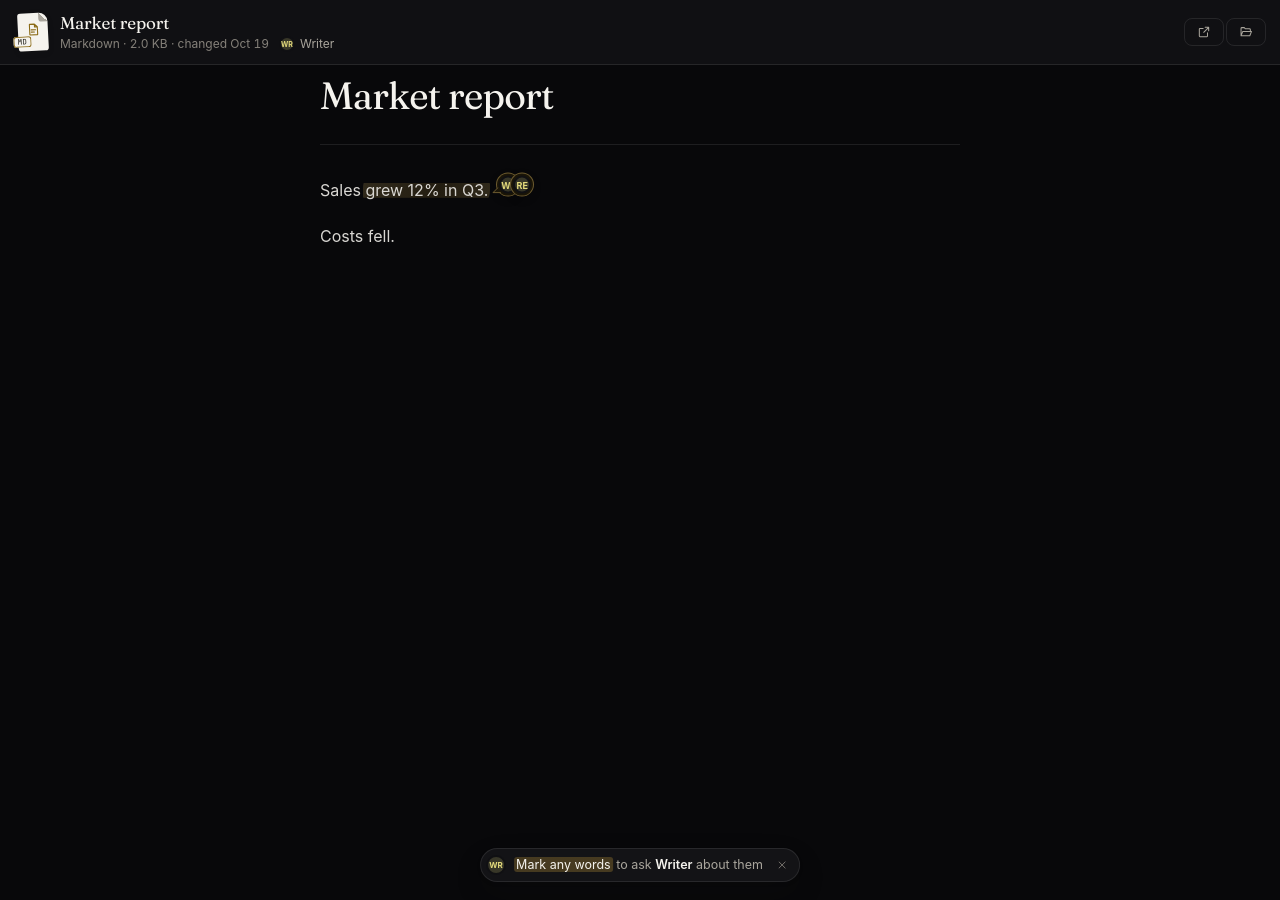
Test: reading a file an agent made › shows a part asked about with the newer part that overlaps it, its answer beside them
Click the button with aria-label "Writer's answer about “Sales grew”". click: (508, 185)
box: [497,174,519,196]
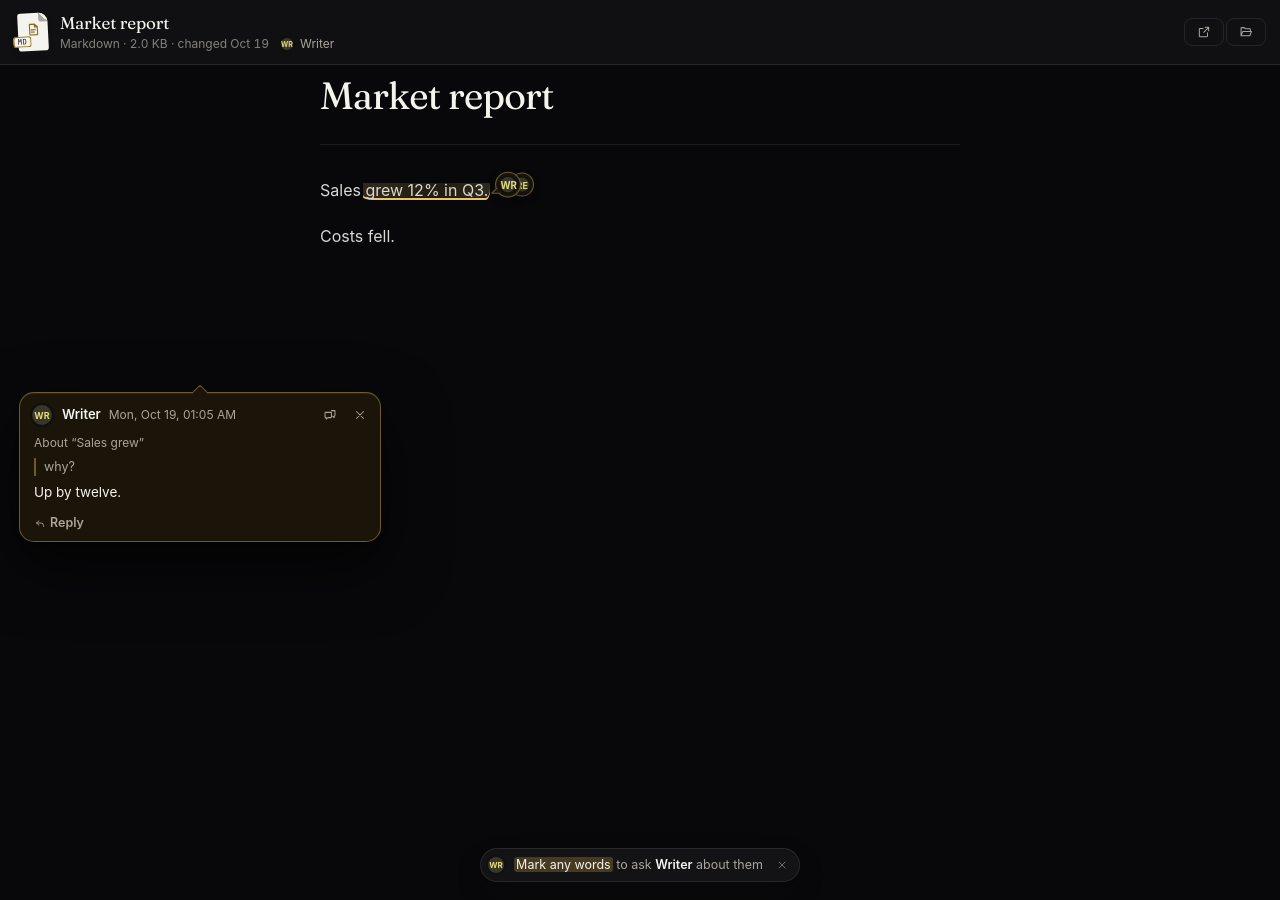
Expected: the element named "Writer's answer to your question" shows "Up by twelve.", [34,484,121,500]
Expected: the text with class "rd-answer-about" reads "About “Sales grew”", [34,435,144,450]
Click the button with aria-label "Researcher's answer about “grew 12% in Q3.”". click: (522, 185)
box: [511,174,533,196]
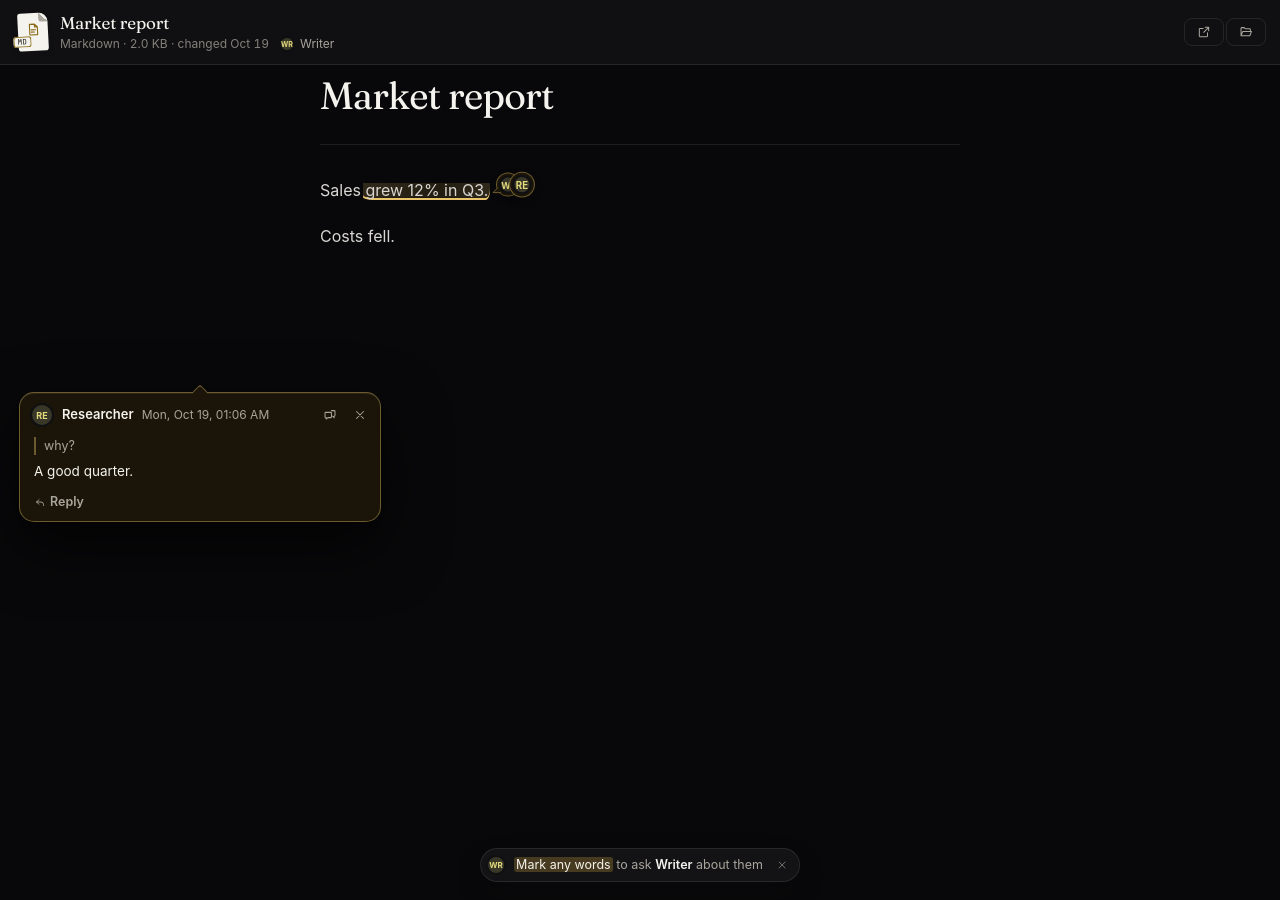
Expected: the text with class "rd-answer-about" is gone
